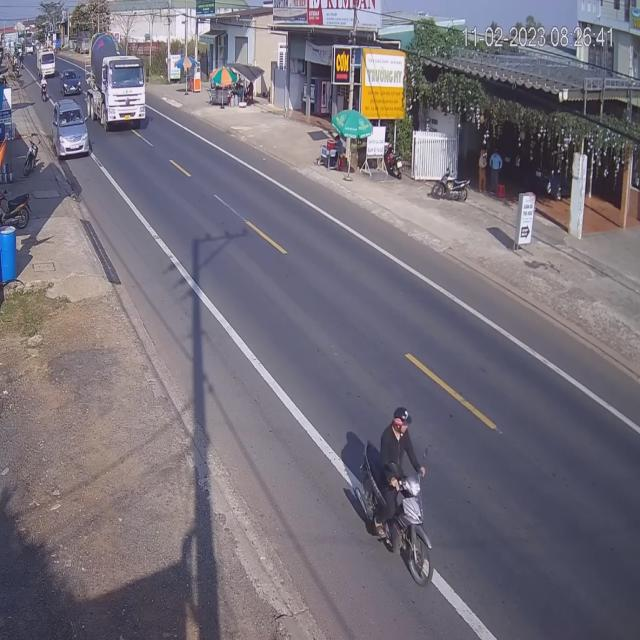car: (54, 100, 91, 162), (62, 69, 82, 96)
motorbike: (358, 407, 428, 584), (40, 78, 49, 101)
truck: (89, 40, 150, 133), (38, 51, 55, 78)
